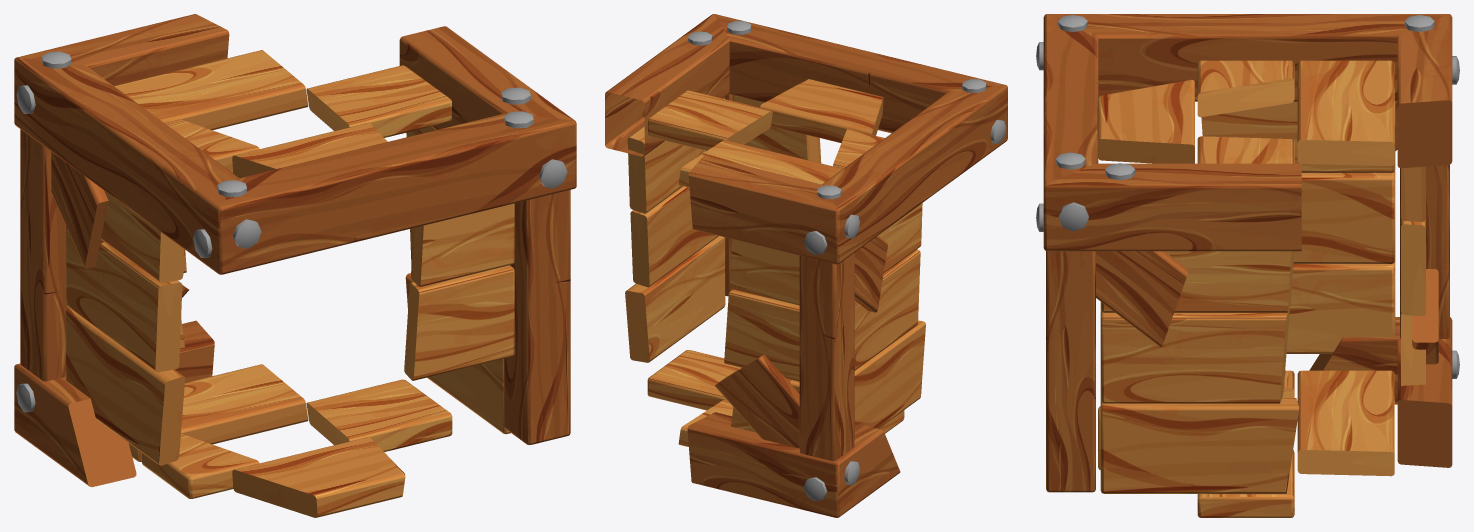
The model's file is wood_cracks1.fbx.
3 views of the same model, side by side, from view 1: azimuth 30°, elevation 25°; view 2: azimuth 150°, elevation 25°; view 3: azimuth 270°, elevation 25° (orthographic). The views are drawn at different scales.
Parts seen in each view (by area): view 1: woodbox.029, woodbox.110, woodbox.111, woodbox.131, woodbox.016, woodbox.136, woodbox.123, woodbox.124, woodbox.005, woodbox.138, woodbox.003, woodbox.139 (+21 smaller); view 2: woodbox.110, woodbox.111, woodbox.131, woodbox.029, woodbox.037, woodbox.116, woodbox.112, woodbox.003, woodbox.142, woodbox.038, woodbox.123, woodbox.040 (+18 smaller); view 3: woodbox.111, woodbox.110, woodbox.029, woodbox.037, woodbox.038, woodbox.131, woodbox.005, woodbox.139, woodbox.112, woodbox.040, woodbox.053, woodbox.035 (+24 smaller).
Boxes of the visible parts, x1,y1,x2,y2 form: woodbox.029: (114,140,435,274); woodbox.110: (14,14,229,196); woodbox.111: (395,26,576,222); woodbox.131: (14,320,214,487); woodbox.016: (404,265,514,380); woodbox.136: (232,437,405,517); woodbox.123: (88,325,185,465); woodbox.124: (92,242,182,372); woodbox.005: (155,50,308,130); woodbox.138: (306,379,452,451); woodbox.003: (306,65,451,137); woodbox.139: (182,364,308,444); woodbox.110: (688,116,960,264); woodbox.111: (605,14,839,156); woodbox.131: (687,412,900,517); woodbox.029: (815,44,1007,204); woodbox.037: (625,247,705,362); woodbox.116: (724,289,799,381); woodbox.112: (760,79,883,142); woodbox.003: (648,90,772,150); woodbox.142: (715,354,799,448); woodbox.038: (630,186,696,287); woodbox.123: (859,320,925,428); woodbox.040: (627,126,701,213); woodbox.111: (1036,110,1301,251); woodbox.110: (1156,14,1459,168); woodbox.029: (1036,14,1215,113); woodbox.037: (1147,398,1299,493); woodbox.038: (1153,308,1289,403); woodbox.131: (1309,317,1459,467); woodbox.005: (1297,87,1394,165); woodbox.139: (1297,397,1394,476); woodbox.112: (1098,79,1194,163); woodbox.040: (1170,251,1294,312); woodbox.053: (1096,251,1187,347); woodbox.035: (1100,401,1185,493).
Size of the model in its own units: 114 by 115 by 114.
